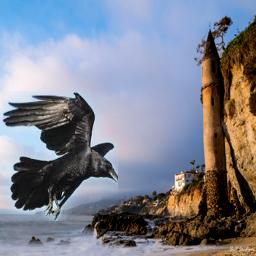Crow: (2, 91, 118, 221)
